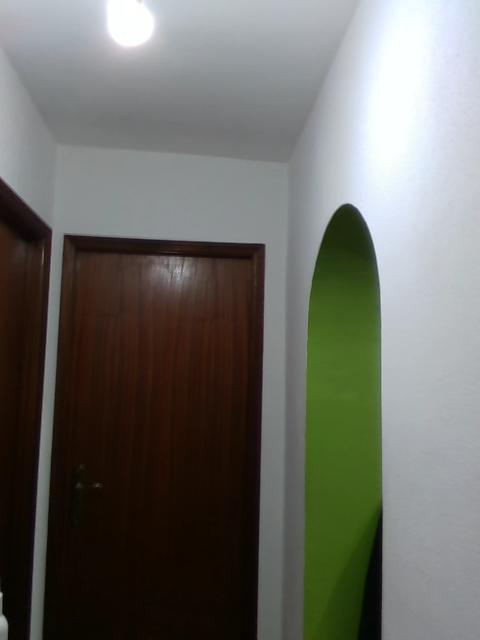closed_door: (46, 233, 263, 638)
